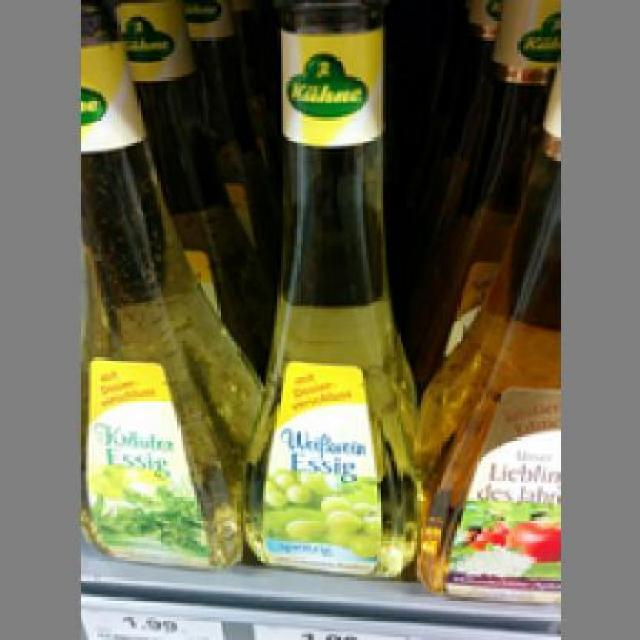Vinegar: (240, 2, 429, 575), (80, 9, 260, 568), (417, 48, 560, 586)
